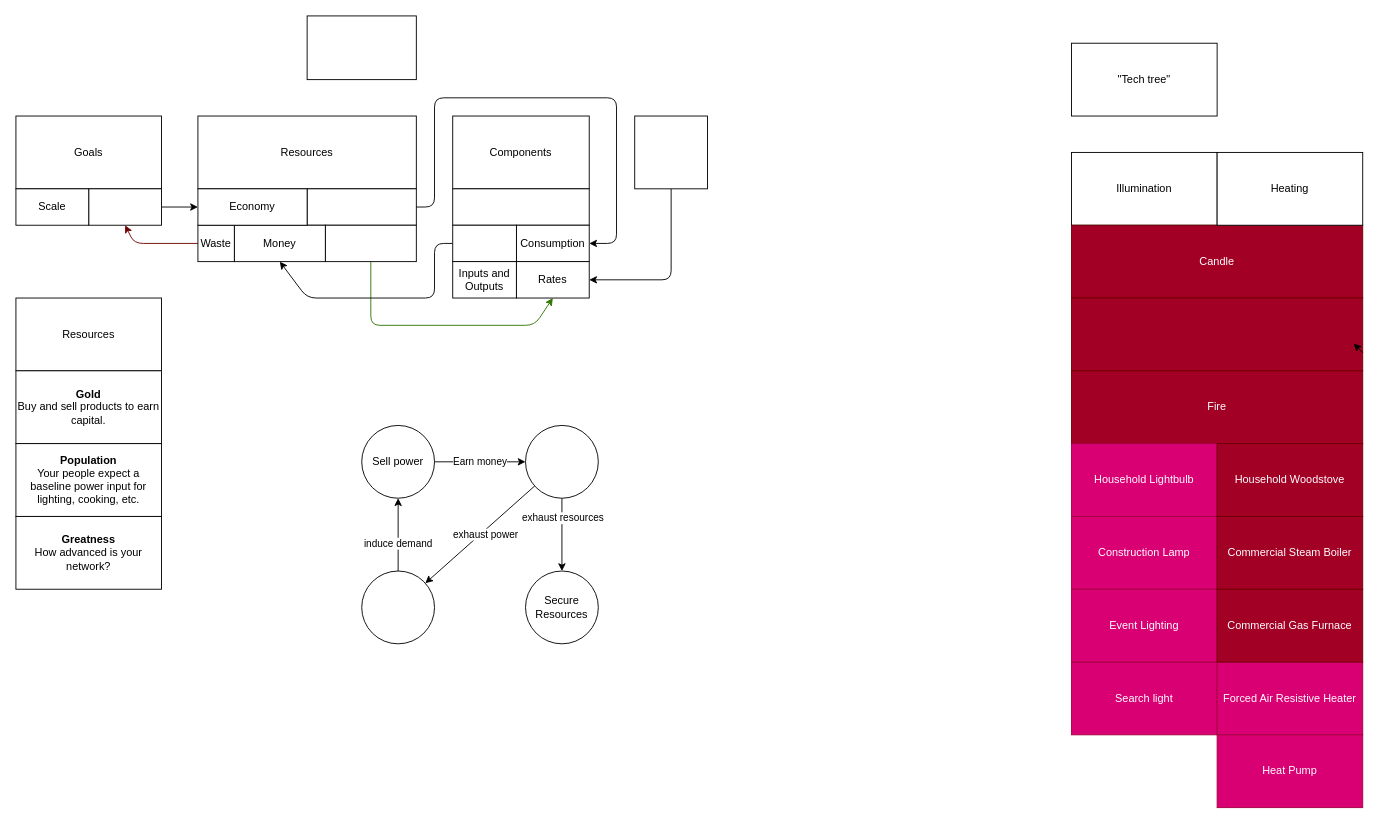
The diagram is 1386 pixels wide and 824 high, and some of its shapes have lost their labels. The box of each missing label's shape, as (x1, y1, x2, y2) in pixels:
Build more luxuries: (525, 425, 598, 498)
Effeciency: (88, 188, 162, 225)
Excess: (452, 224, 516, 262)
Generate power: (361, 570, 435, 644)
Generation: (452, 188, 589, 225)
Idle Game: (306, 15, 416, 80)
Power: (324, 224, 416, 262)
Scarcity: (306, 188, 416, 225)
Timescale: (634, 115, 708, 189)
Torch: (1071, 297, 1363, 371)
